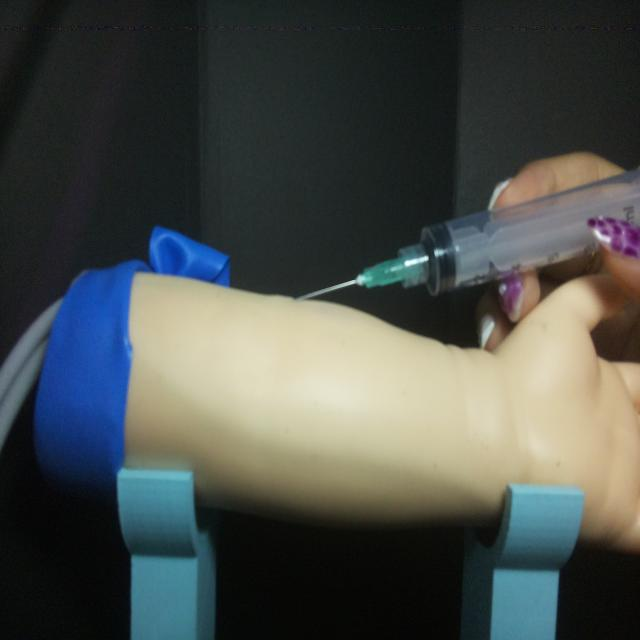17deg: (293, 164, 638, 307)
